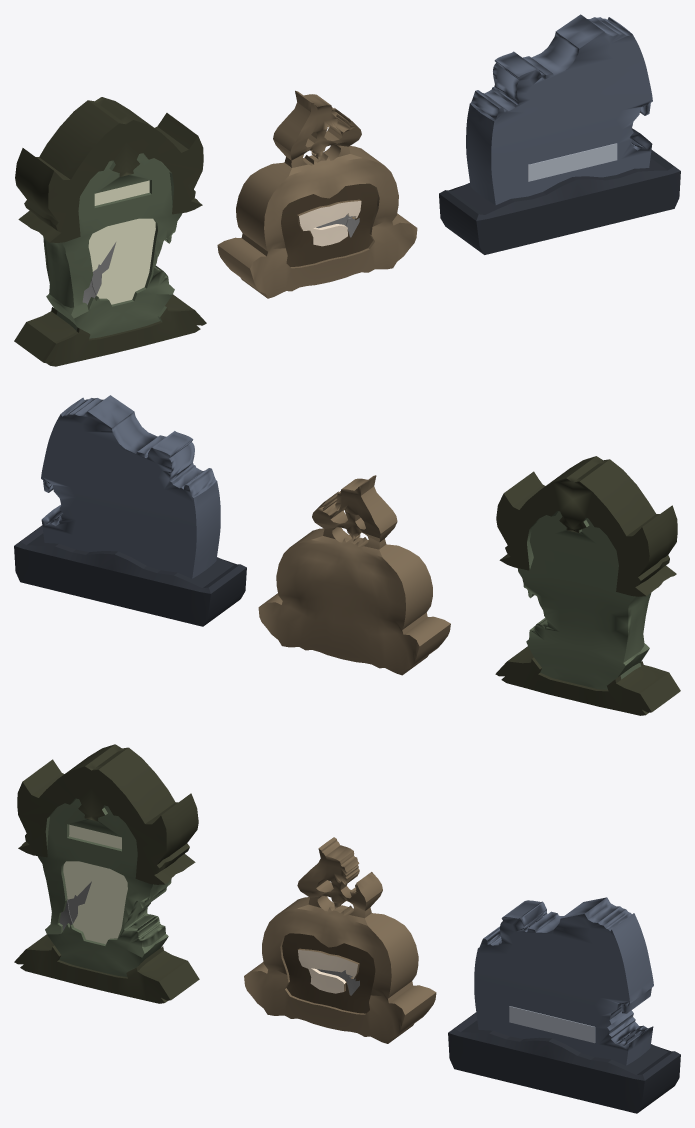
The model's file is broken_toombs.fbx.
The picture shows the model from 3 angles, top to bottom: view 1: azimuth 30°, elevation 25°; view 2: azimuth 150°, elevation 25°; view 3: azimuth 330°, elevation 25°; orthographic projection. The views are drawn at different scales.
Visible parts, largest first — view 1: Ruined_tomb1, Ruined_tomb3, Ruined_tomb2; view 2: Ruined_tomb1, Ruined_tomb3, Ruined_tomb2; view 3: Ruined_tomb1, Ruined_tomb3, Ruined_tomb2.
Part boxes in pixels (x1,y1,x2,y2): Ruined_tomb1: (439, 14, 680, 254); Ruined_tomb3: (14, 97, 206, 366); Ruined_tomb2: (217, 90, 417, 298); Ruined_tomb1: (14, 395, 246, 626); Ruined_tomb3: (495, 456, 680, 715); Ruined_tomb2: (258, 475, 450, 675); Ruined_tomb1: (448, 897, 680, 1113); Ruined_tomb3: (14, 744, 199, 1003); Ruined_tomb2: (244, 837, 436, 1043).
Bounding box in the file's own units: 435 × 149 × 59.61.
